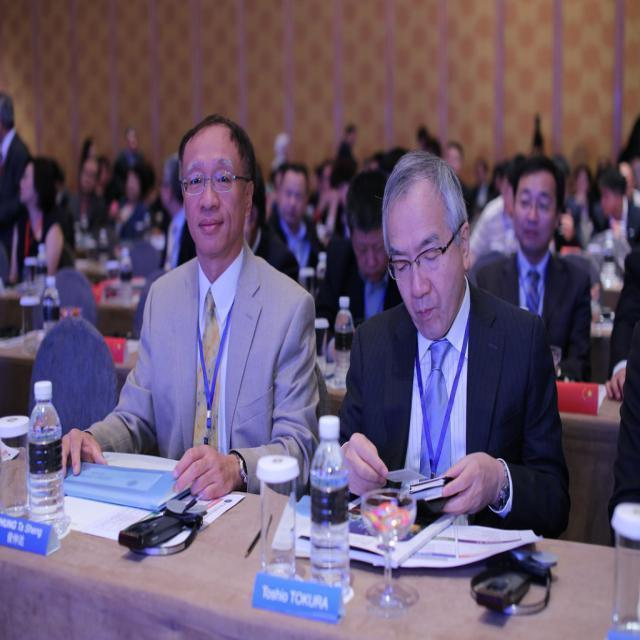closed-mouth: (414, 304, 438, 324), (199, 216, 220, 232)
